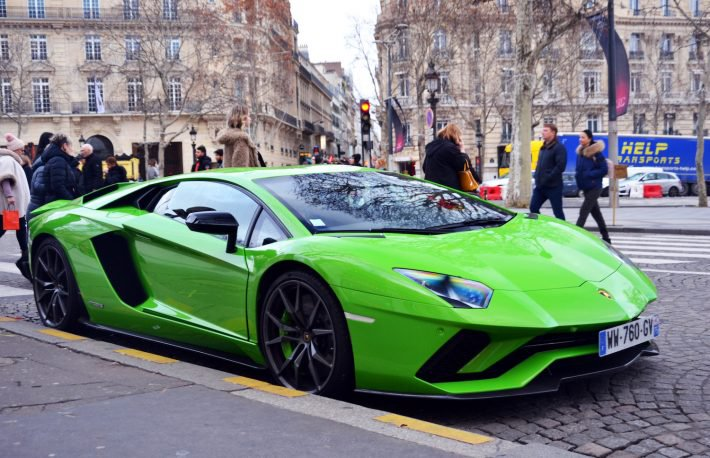car: (22, 160, 665, 395)
